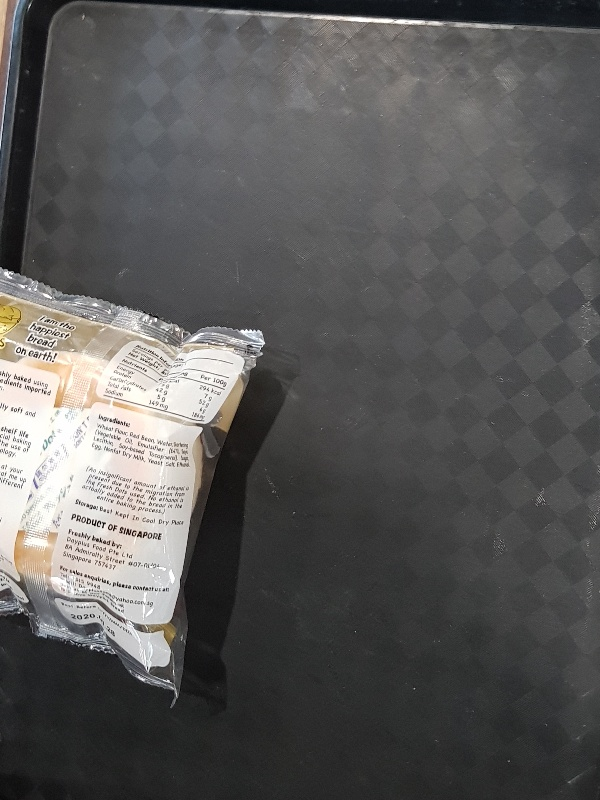Dayplus Red Bean: (1, 268, 264, 703)
